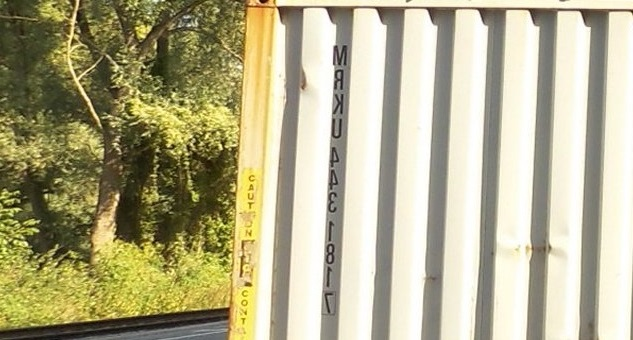container_no_door: (231, 1, 632, 336)
